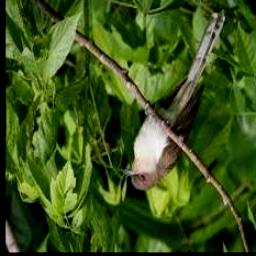Cuckoo: (125, 10, 227, 191)
